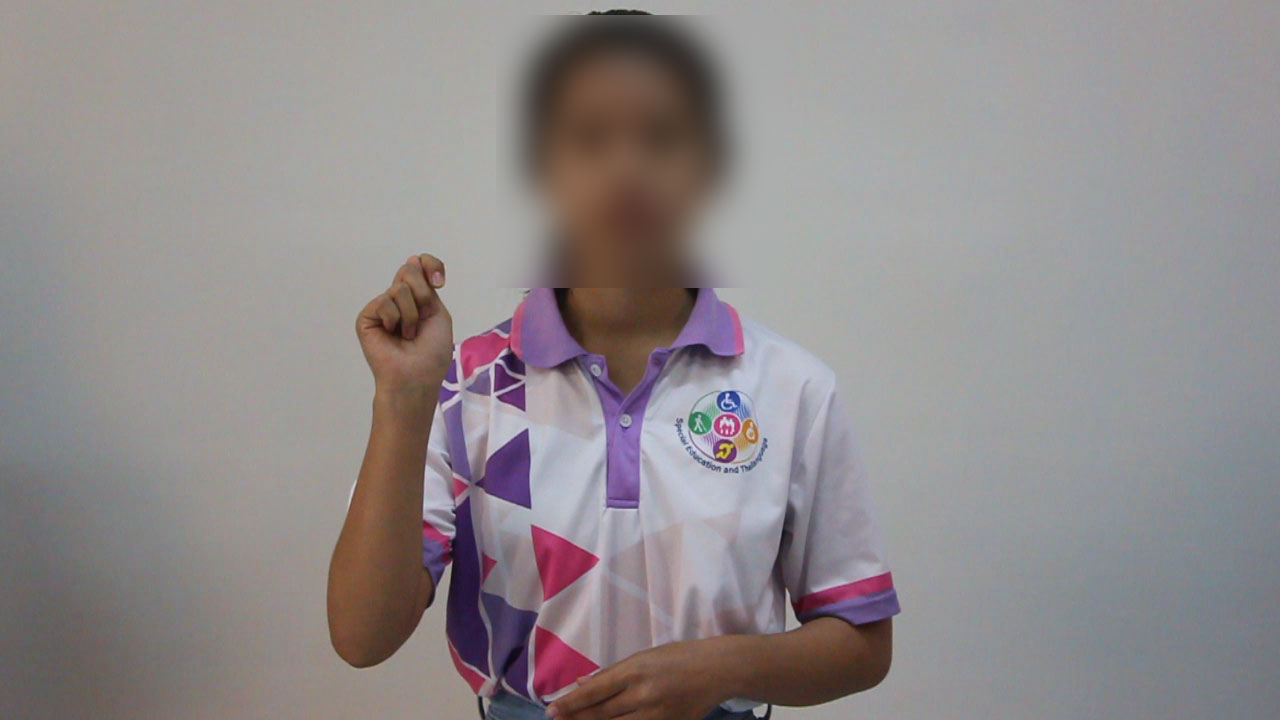tor: (334, 239, 496, 425)
